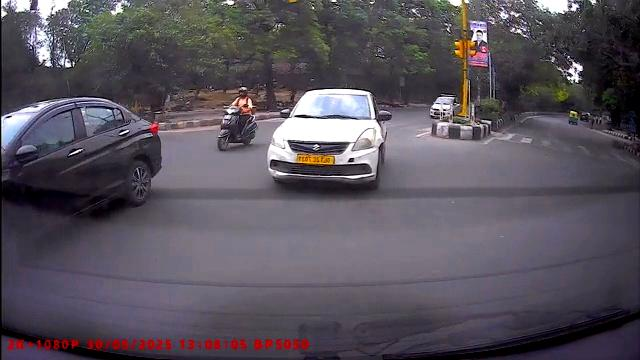motorcycle_with_helmet: (215, 85, 259, 152)
